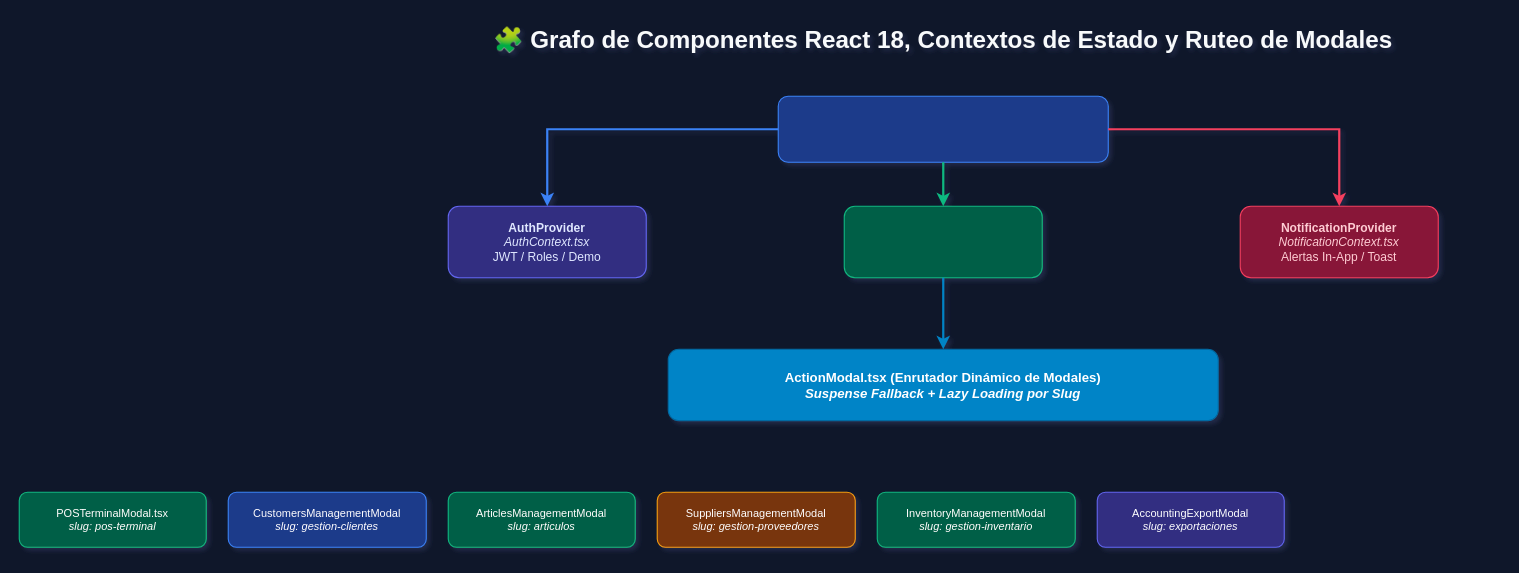
This 1519x573 diagram has some shape labels left out. The shapes that lost their labels are listed below. From the top down, each one's centre as x and y in pixels, then its label:
At (942,128): "App.tsx (Componente Raíz) Orquestador de Layout, Modales y Tours".
At (942,241): "TenantProvider TenantContext.tsx store_id / Sucursales".
